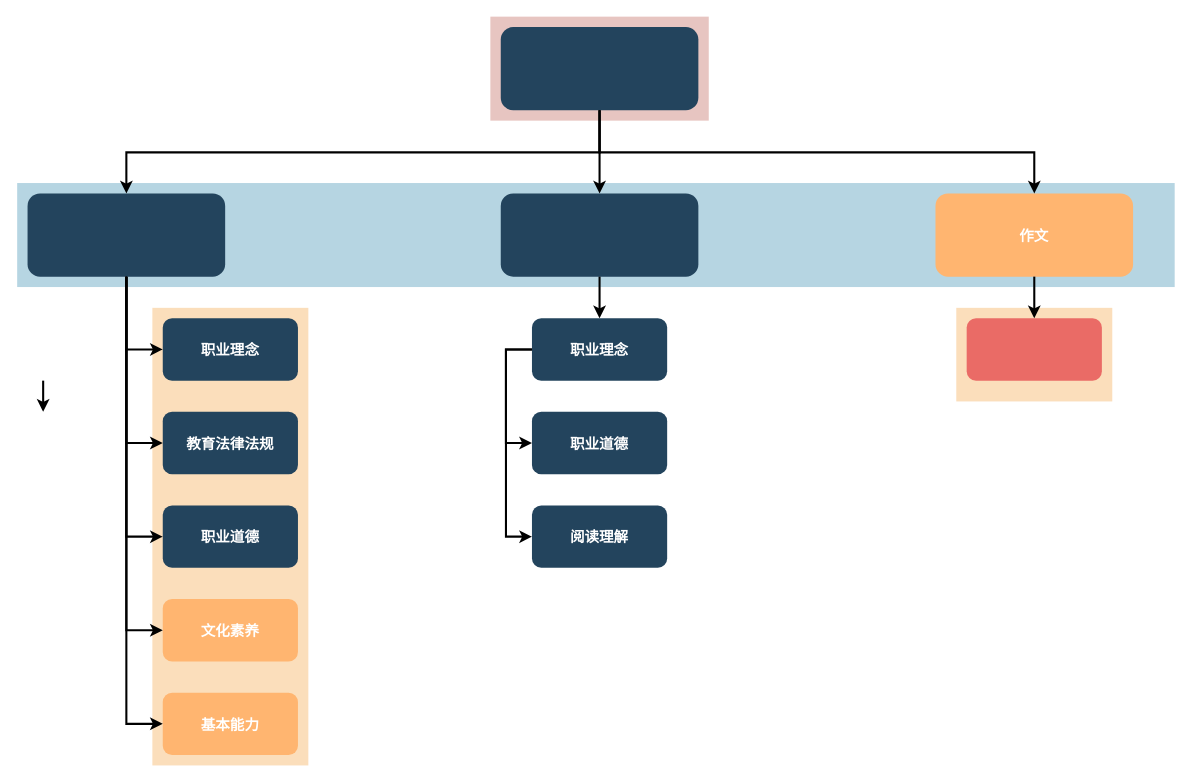
The diagram is 1192 pixels wide and 782 high, and some of its shapes have lost their labels. Here are the shapes that lost their labels. From the top down, the box of each, then its label:
(500, 27, 698, 110): 综合素质
(27, 193, 225, 276): 客观选择题（单选）
(500, 193, 698, 276): 材料分析题
(966, 318, 1101, 380): 和教育挂钩 50'
